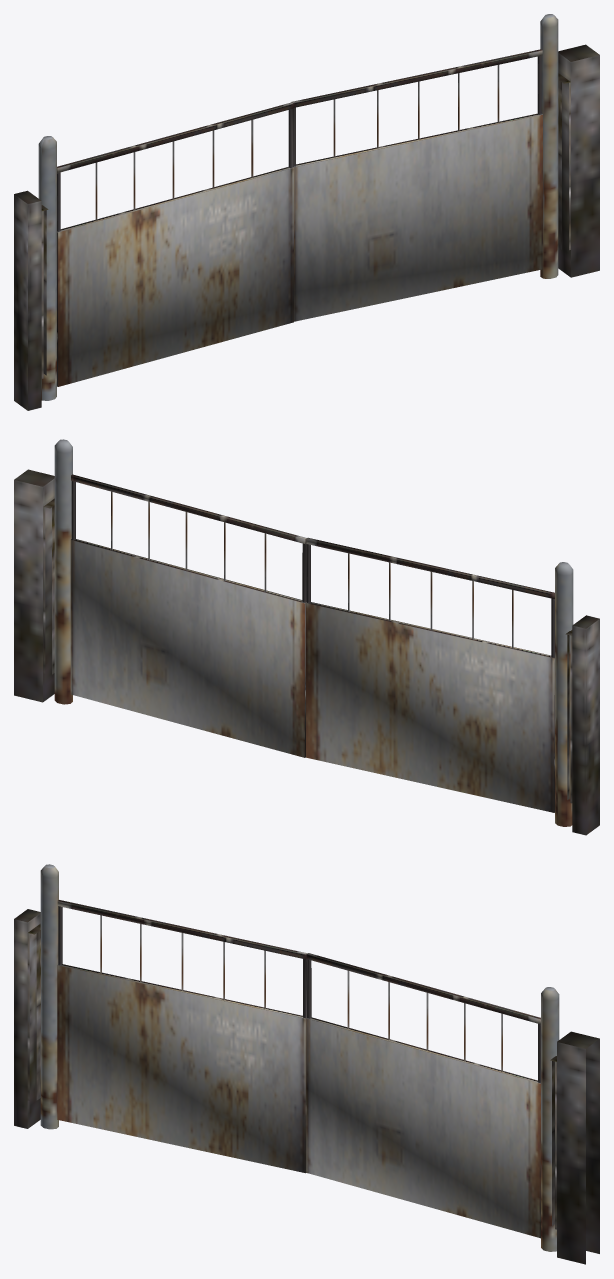
The model's file is door_mtl_2.obj.
The picture shows the model from 3 angles, top to bottom: view 1: azimuth 30°, elevation 25°; view 2: azimuth 150°, elevation 25°; view 3: azimuth 330°, elevation 25°; orthographic projection.
Visible parts, largest first — view 1: 0, 0.002, 0.003, 0.001; view 2: 0, 0.002, 0.003, 0.001; view 3: 0, 0.002, 0.003, 0.001.
Boxes of the visible parts, x1,y1,x2,y2 form: 0: [57, 49, 542, 386]; 0.002: [558, 44, 599, 277]; 0.003: [38, 14, 558, 400]; 0.001: [14, 190, 48, 410]; 0: [70, 474, 554, 812]; 0.002: [14, 469, 54, 702]; 0.003: [54, 439, 573, 826]; 0.001: [565, 615, 599, 835]; 0: [57, 900, 540, 1238]; 0.002: [550, 1031, 599, 1264]; 0.003: [40, 864, 559, 1251]; 0.001: [14, 909, 40, 1128].
Size of the model in its own units: 6.15 by 2.67 by 0.2976.
